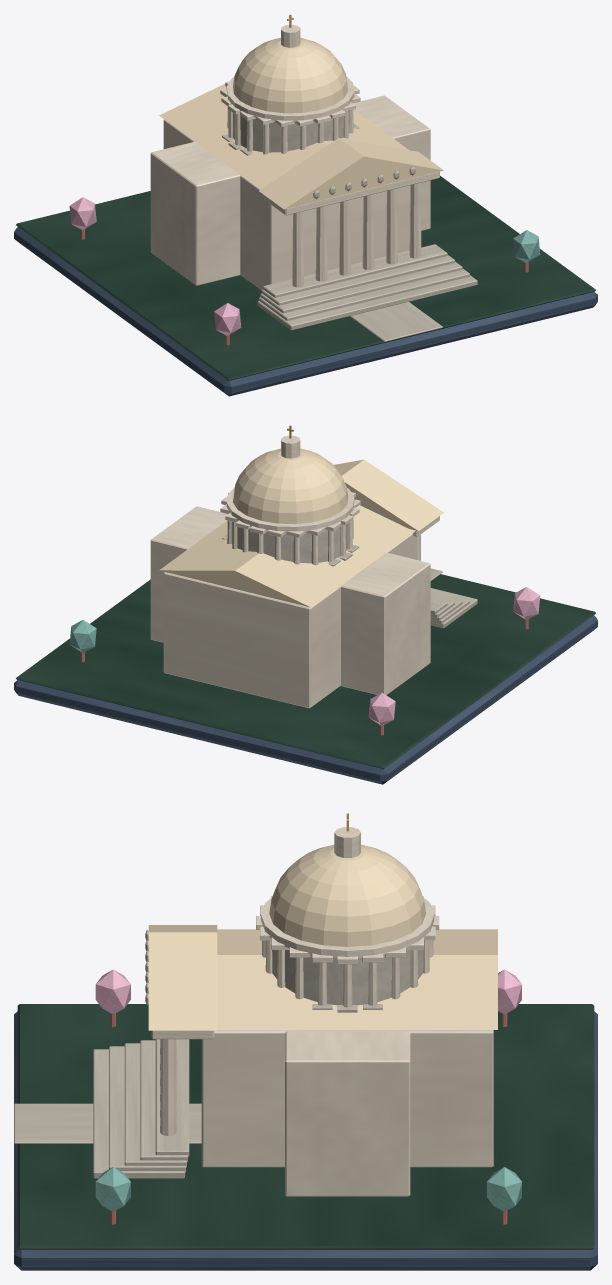
File: pantheon-paris-diorama.glb
3 renders of one model, top to bottom at view 1: azimuth 30°, elevation 25°; view 2: azimuth 150°, elevation 25°; view 3: azimuth 270°, elevation 25°, orthographic. The views are drawn at different scales.
Parts seen in each view (by area): view 1: pantheon-paris; view 2: pantheon-paris; view 3: pantheon-paris.
Boxes of the visible parts, bbox=[...] form: pantheon-paris: bbox=[14, 14, 597, 396]; pantheon-paris: bbox=[14, 425, 597, 784]; pantheon-paris: bbox=[14, 813, 597, 1270].
Bounding box in the file's own units: 14 × 8.91 × 14.
1 material, 1 textured.
